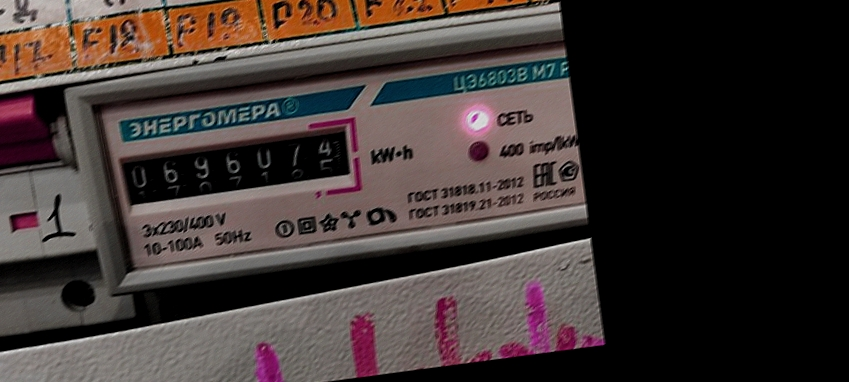0: (128, 163, 150, 190), (253, 143, 274, 171)
4: (315, 134, 334, 158)
5: (318, 157, 336, 179)
6: (222, 147, 243, 177), (160, 158, 181, 185)
7: (285, 140, 305, 168)
9: (191, 153, 210, 181)
screen: (107, 115, 369, 227)
